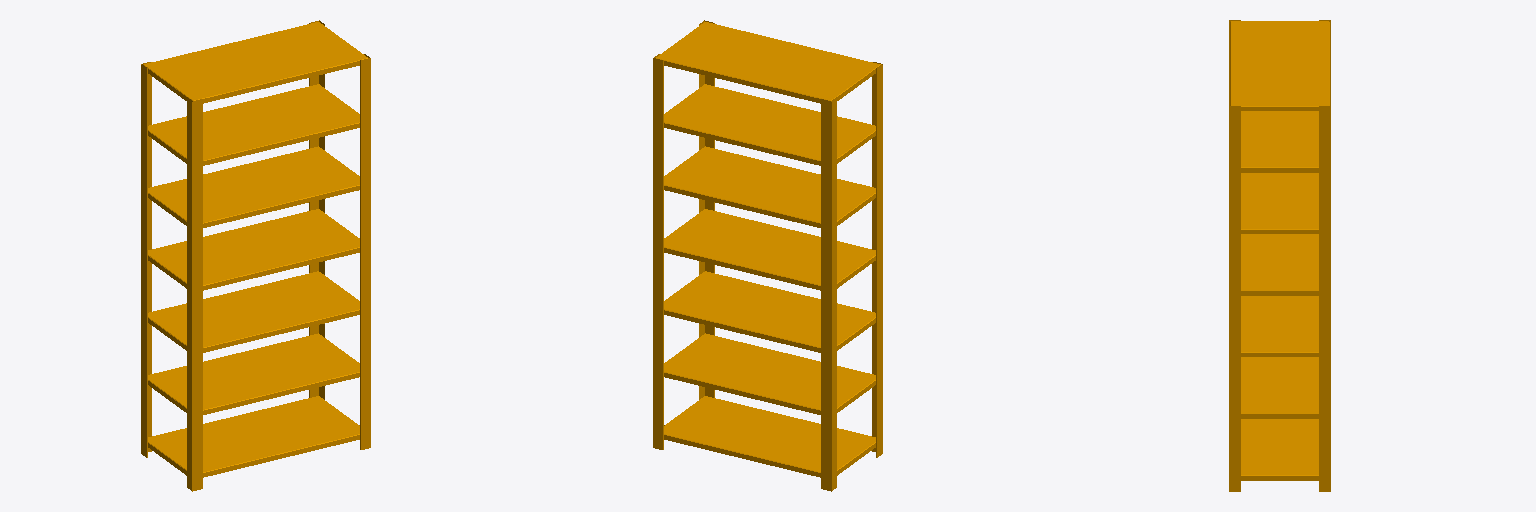
The robot description file, URDF, robot "ramp":
<?xml version="1.0"?>
<robot name="ramp">
  <link name="shelves">
    <visual>
      <origin xyz="3 -3 0.0000" rpy="0.0000 -0.0000 0.0000"/>
      <geometry>
        <mesh filename="picking-shelves.obj" scale="1 1 1"/>
      </geometry>
    </visual>
    <collision>
      <origin xyz="3 -3 0.0000" rpy="0.0000 -0.0000 0.0000"/>
      <geometry>
        <mesh filename="picking-shelves.obj" scale="1 1 1"/>
      </geometry>
    </collision>

    <inertial>
      <mass value="0.0"/>
      <inertia ixx="0.0" ixy="0.0" ixz="0.0" iyy="0.0" iyz="0.0" izz="0.0"/>
    </inertial>
  </link>
</robot>

--- Facts derived from the render (not from the file) ---
Views: 3 orthographic renders of the robot side by side, from view 1: azimuth 30°, elevation 25°; view 2: azimuth 150°, elevation 25°; view 3: azimuth 270°, elevation 25°.
Robot: ramp — 1 links, 0 joints (none); root link shelves; default pose: all joints at 0.
Visible links, largest first — view 1: shelves; view 2: shelves; view 3: shelves.
Boxes of the visible links, x1,y1,x2,y2 form: shelves: [141, 20, 370, 491]; shelves: [653, 20, 882, 491]; shelves: [1229, 20, 1330, 491].
Bounding box of the posed robot: 0.9144 × 0.4593 × 1.91 m (x, y, z).
1 mesh visuals loaded from 1 distinct referenced files (1 OBJ).